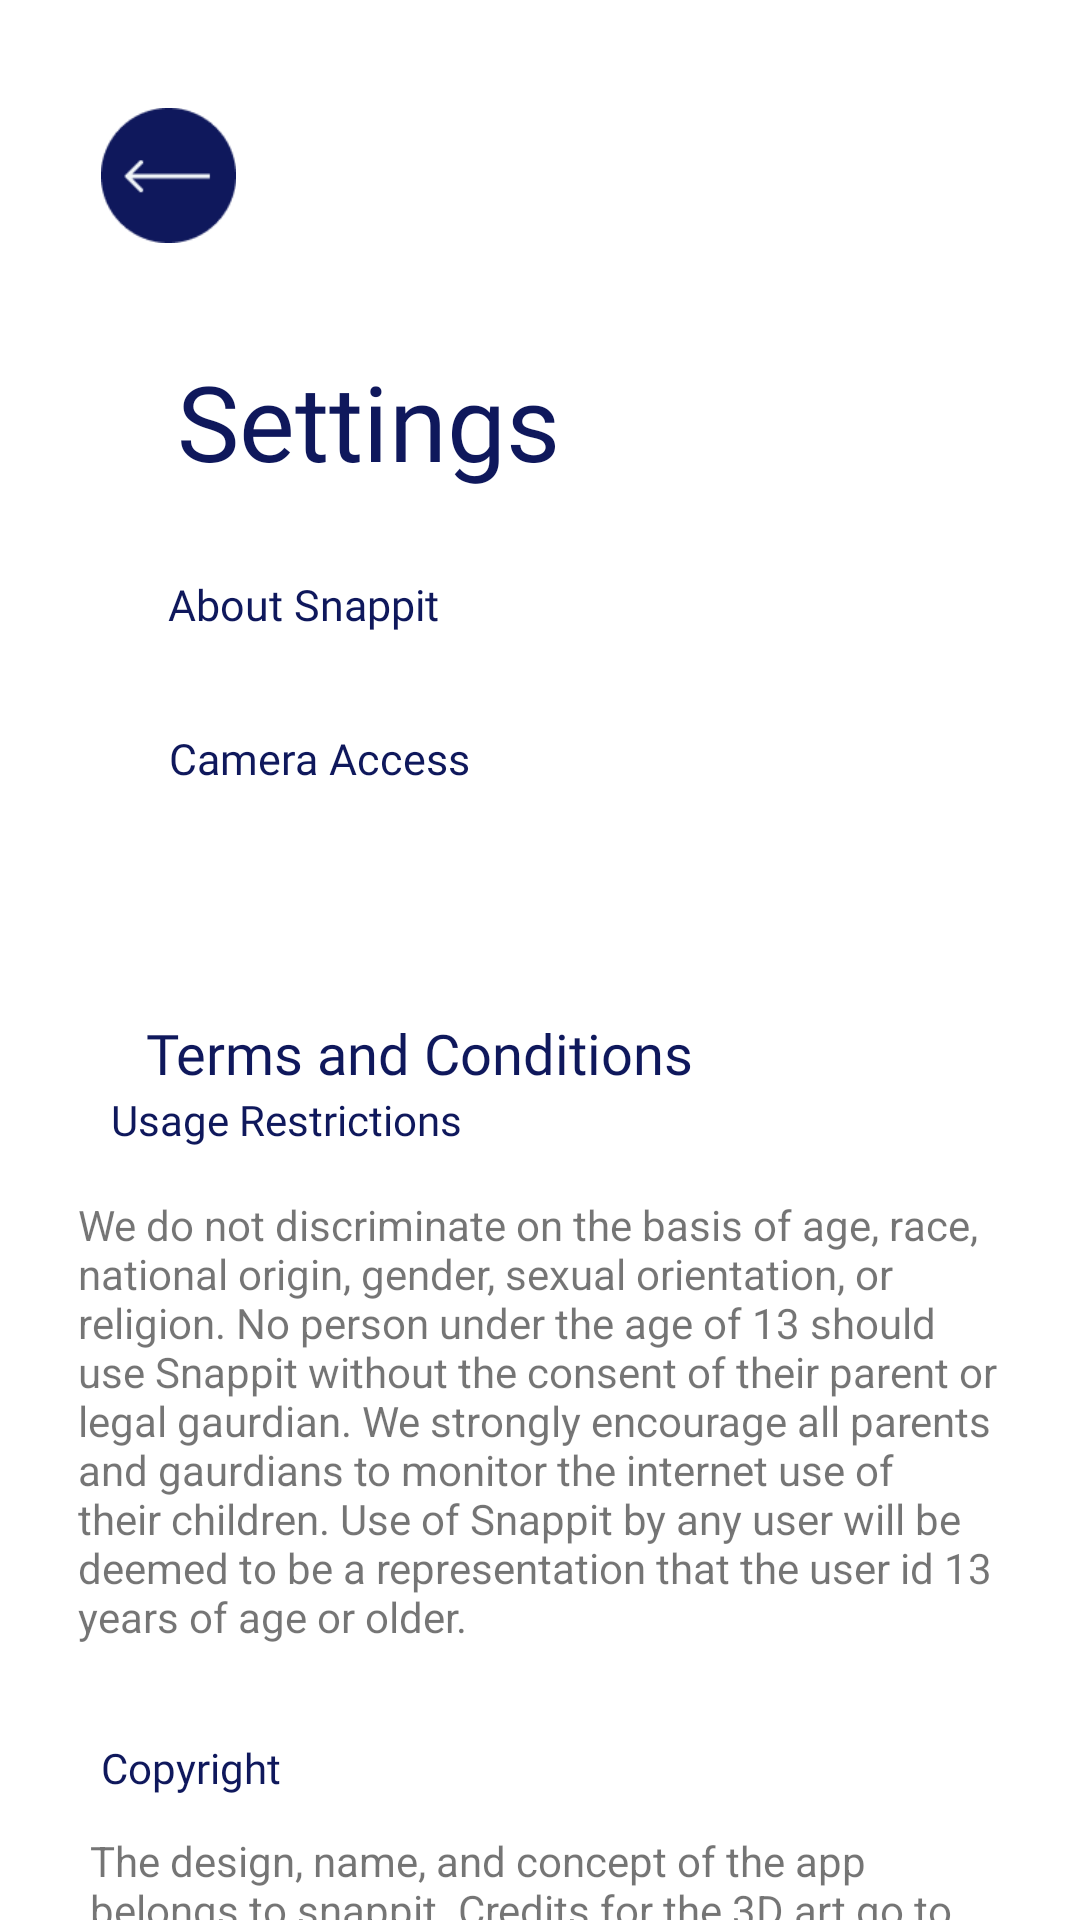

Screen size 1080w x 1920h. Icon name, then its box in pixels as (x1, y1, x2, y2):
back to main: (101, 108, 236, 243)
